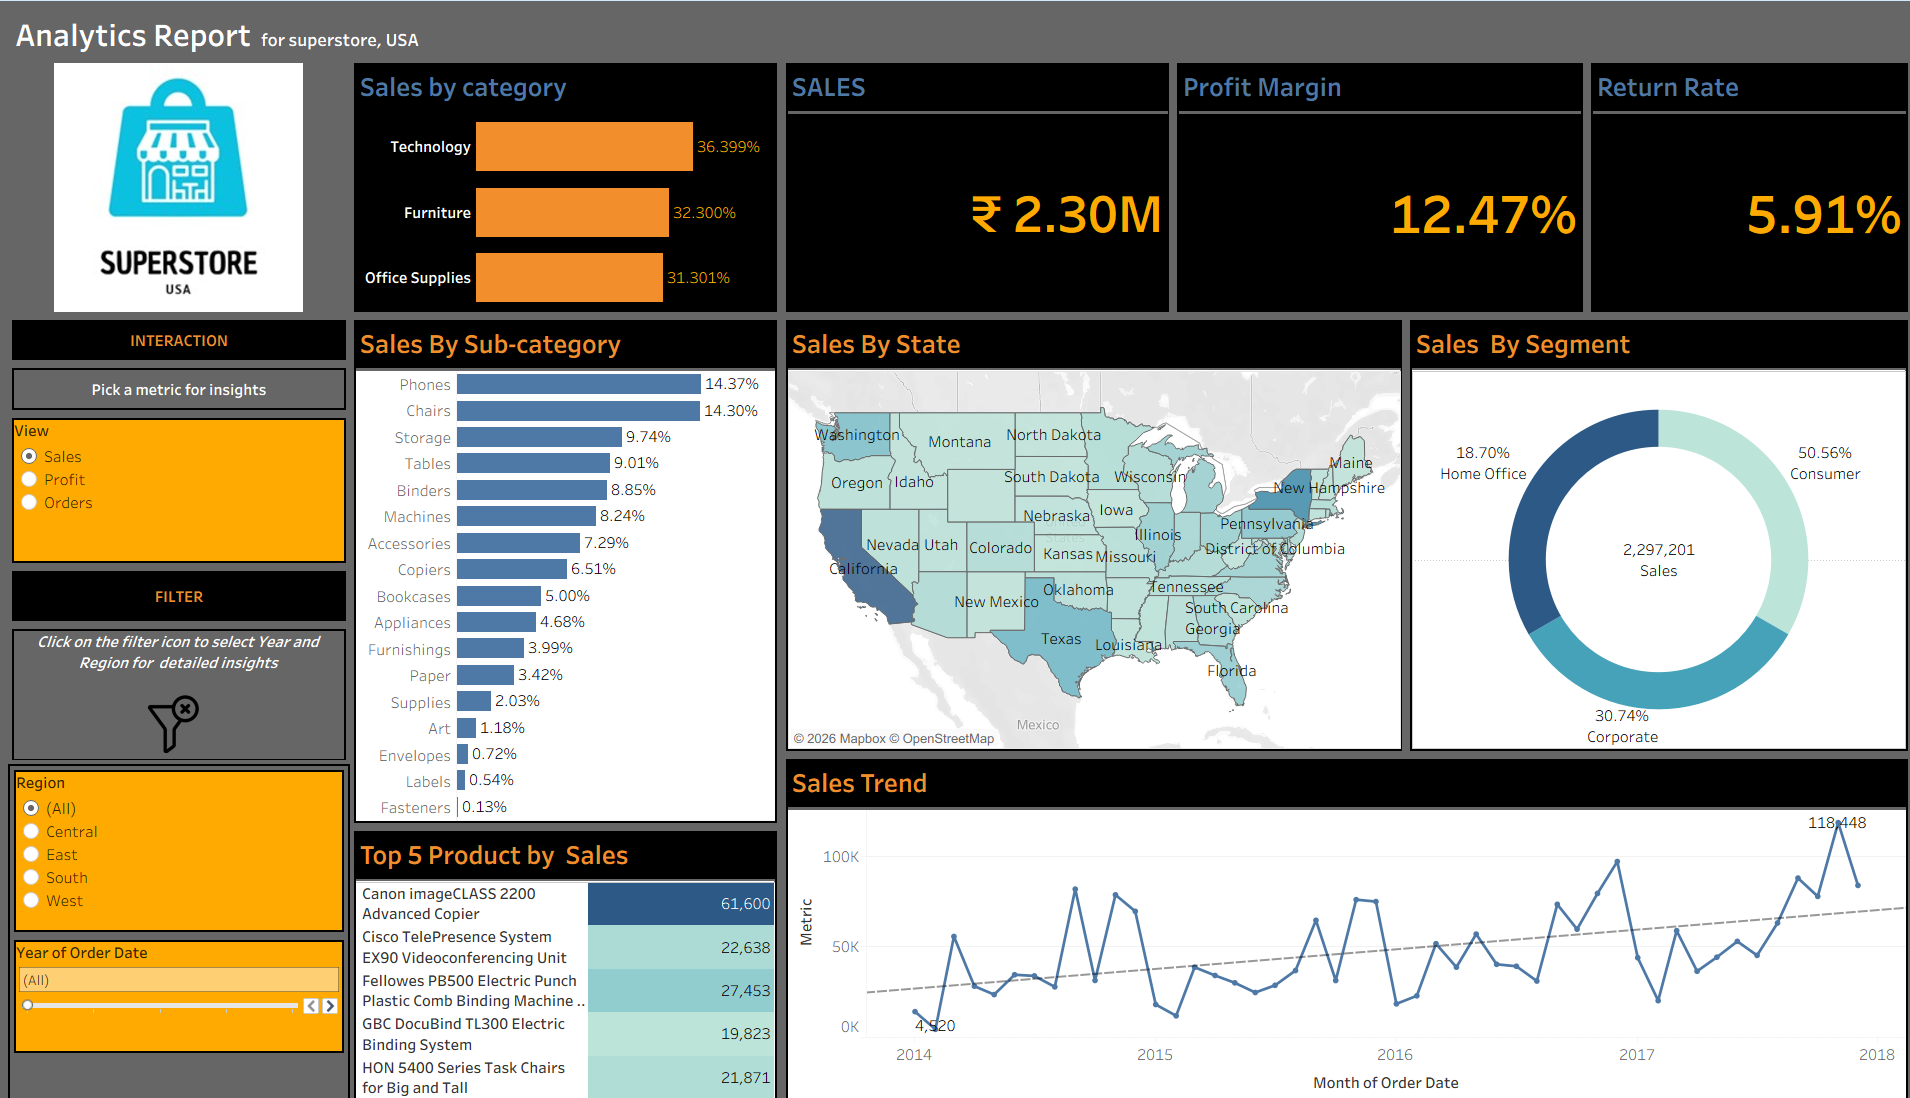

The page's visual inventory and layout, read from the dashboard file:
{"tool":"tableau","page":{"name":"Dashboard 1","canvas":[1000,1000],"units":"permille","ordinal":0},"visuals":[{"type":"title","box":[4.8,8.7,990.3,54.3]},{"type":"image","param":"Image/superstore.jpg","box":[4.8,63,178,228]},{"type":"worksheet","title":"Category","mark":"Automatic","rows":["Category"],"cols":["Calculation_0877709682323456"],"box":[182.9,63,224.4,227.7]},{"type":"worksheet","title":"Metric","mark":"Automatic","box":[407.3,63,203.7,227.7]},{"type":"worksheet","title":"Profit Margin","mark":"Automatic","box":[611,63,215.2,227.7]},{"type":"worksheet","title":"Return Rate","mark":"Automatic","box":[826.2,63,169,227.7]},{"type":"worksheet","title":"Sub-category","mark":"Automatic","rows":["Sub-Category"],"cols":["Calculation_0877709682323456"],"box":[182.9,290.7,224.4,453.4]},{"type":"worksheet","title":"Map","mark":"Multipolygon","box":[407.3,290.7,324.9,389]},{"type":"worksheet","title":"Segment","mark":"Pie","rows":["Calculation_0877709759299588","Calculation_0877709759315974"],"box":[732.2,290.7,263,389]},{"type":"text","box":[4.8,291,178,42.3]},{"type":"text","box":[4.8,333.3,178,44.5]},{"type":"parameter","param":"[Parameters].[Profit Parameter]","box":[4.8,377.9,178,135.7]},{"type":"text","box":[4.8,513.6,178,51]},{"type":"text","box":[4.8,564.6,178,123.8]},{"type":"dashboard-object","box":[69.2,623.2,41.5,52.1]},{"type":"worksheet","title":"Sales Trends","mark":"Line","rows":["Calculation_0877709682323456"],"cols":["Order Date"],"box":[407.3,679.7,587.9,311.6]},{"type":"filter","title":"Metric","param":"[federated.0ydkix71hnm9bs0zyl3ie1jai37b].[none:Region:nk]","box":[6,690.6,175.6,167.2]},{"type":"worksheet","title":"Product","mark":"Square","rows":["Product Name"],"box":[182.9,744.1,224.4,247.2]},{"type":"filter","title":"Metric","param":"[federated.0ydkix71hnm9bs0zyl3ie1jai37b].[yr:Order Date:ok]","box":[6,857.8,175.6,131.4]}]}

Visuals, with their boxes on the dashboard's canvas, which has no fixed pixel size, in thousandths of its width and height (x1, y1, x2, y2). These are canvas units, not pixel positions in the 1910x1098 screenshot, which may show the page scaled, cropped or inside an application window:
title: bbox=[5, 9, 995, 63]
image: bbox=[5, 63, 183, 291]
"Category" worksheet: bbox=[183, 63, 407, 291]
"Metric" worksheet: bbox=[407, 63, 611, 291]
"Profit Margin" worksheet: bbox=[611, 63, 826, 291]
"Return Rate" worksheet: bbox=[826, 63, 995, 291]
"Sub-category" worksheet: bbox=[183, 291, 407, 744]
"Map" worksheet (Multipolygon marks): bbox=[407, 291, 732, 680]
"Segment" worksheet (Pie marks): bbox=[732, 291, 995, 680]
text: bbox=[5, 291, 183, 333]
text: bbox=[5, 333, 183, 378]
parameter: bbox=[5, 378, 183, 514]
text: bbox=[5, 514, 183, 565]
text: bbox=[5, 565, 183, 688]
dashboard-object: bbox=[69, 623, 111, 675]
"Sales Trends" worksheet (Line marks): bbox=[407, 680, 995, 991]
"Metric" filter: bbox=[6, 691, 182, 858]
"Product" worksheet (Square marks): bbox=[183, 744, 407, 991]
"Metric" filter: bbox=[6, 858, 182, 989]
